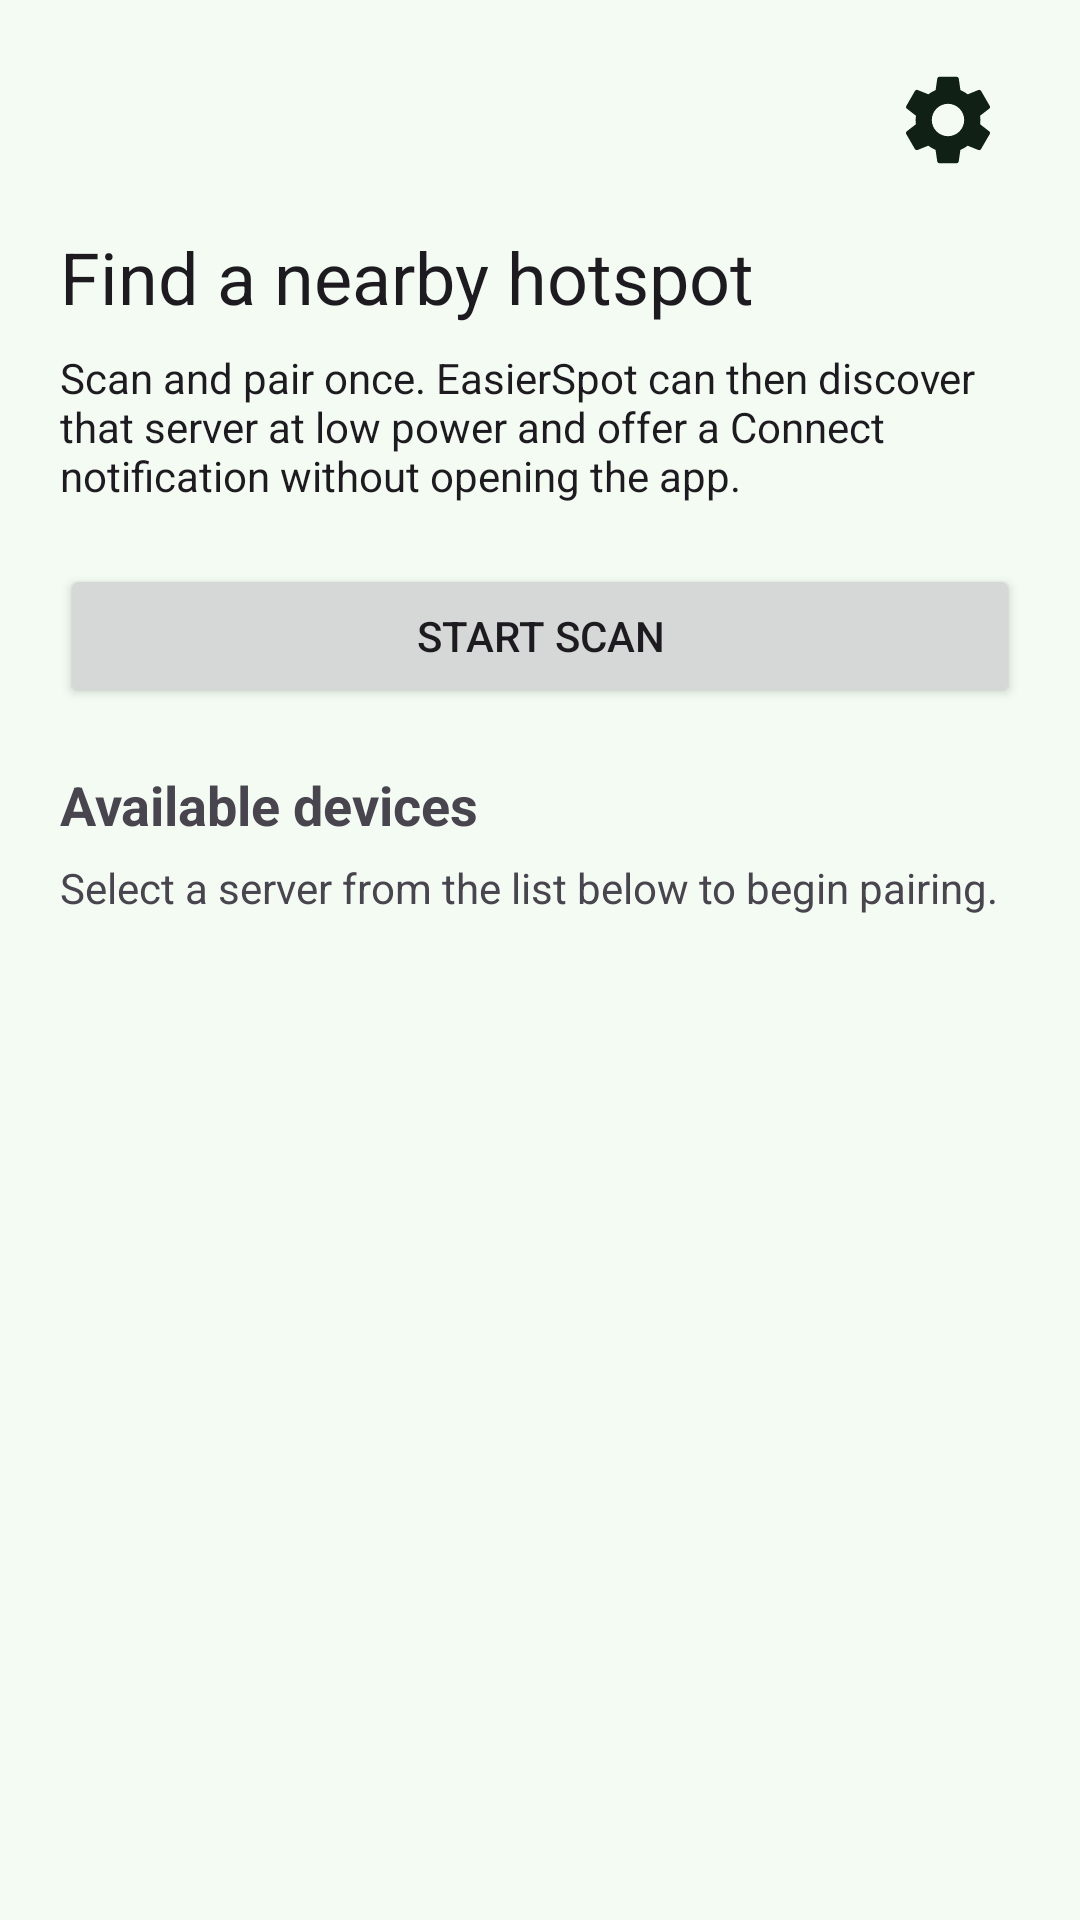

Icon click points for this 1080px x 1920px phone screenshot, format point (x, y):
Settings: point (948, 120)
